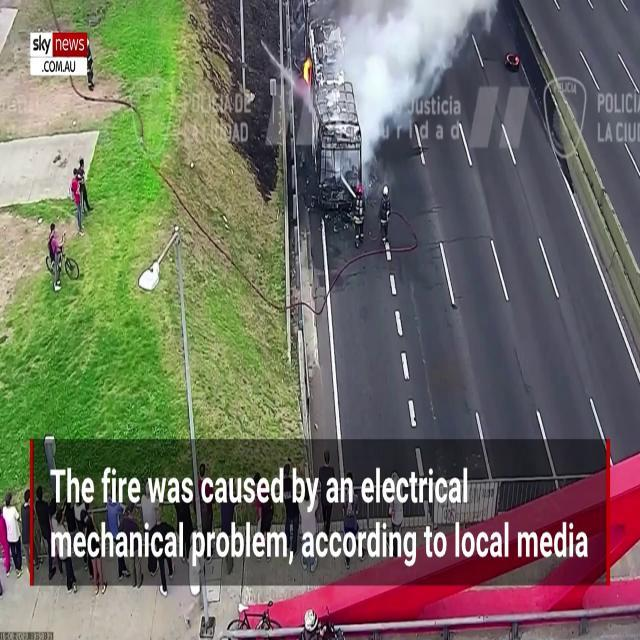Smoke: (337, 0, 516, 122)
